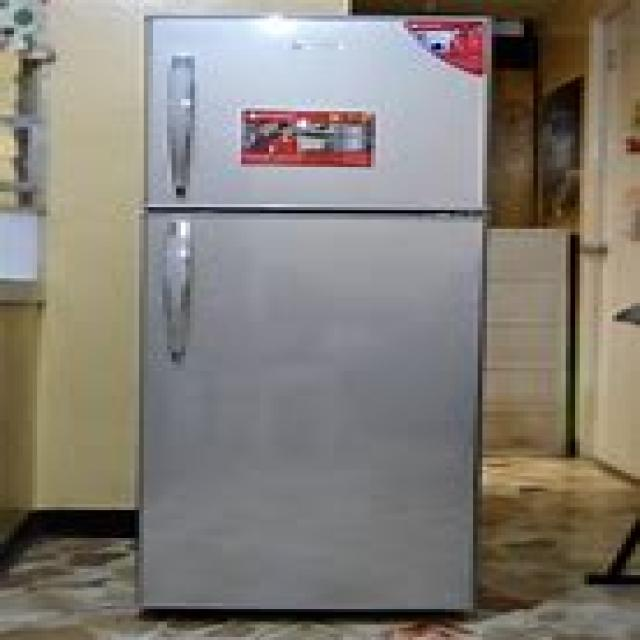fridge: (134, 12, 492, 612)
